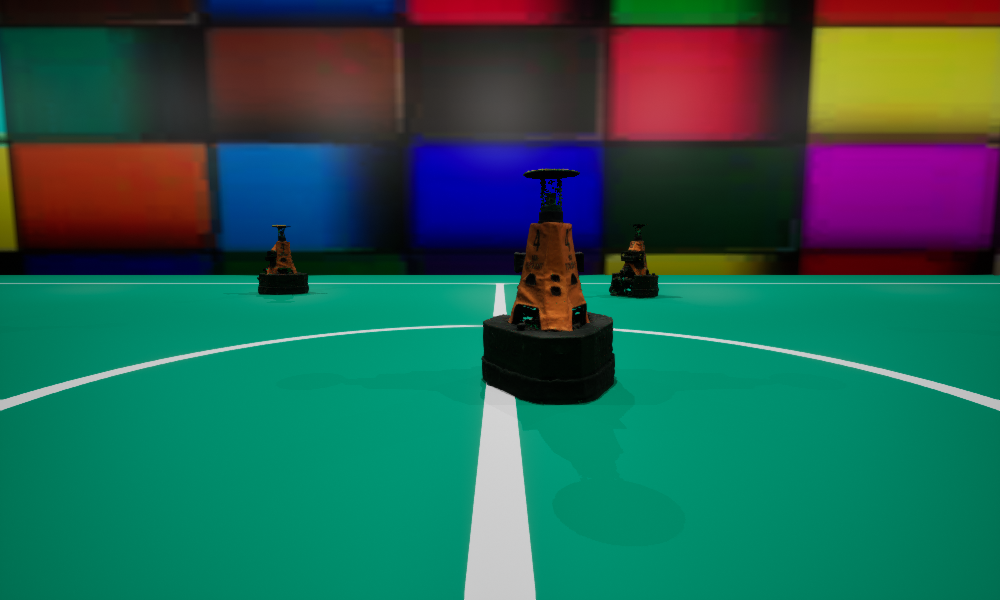o: (481, 169, 614, 404), (609, 224, 658, 297), (257, 225, 308, 294)
